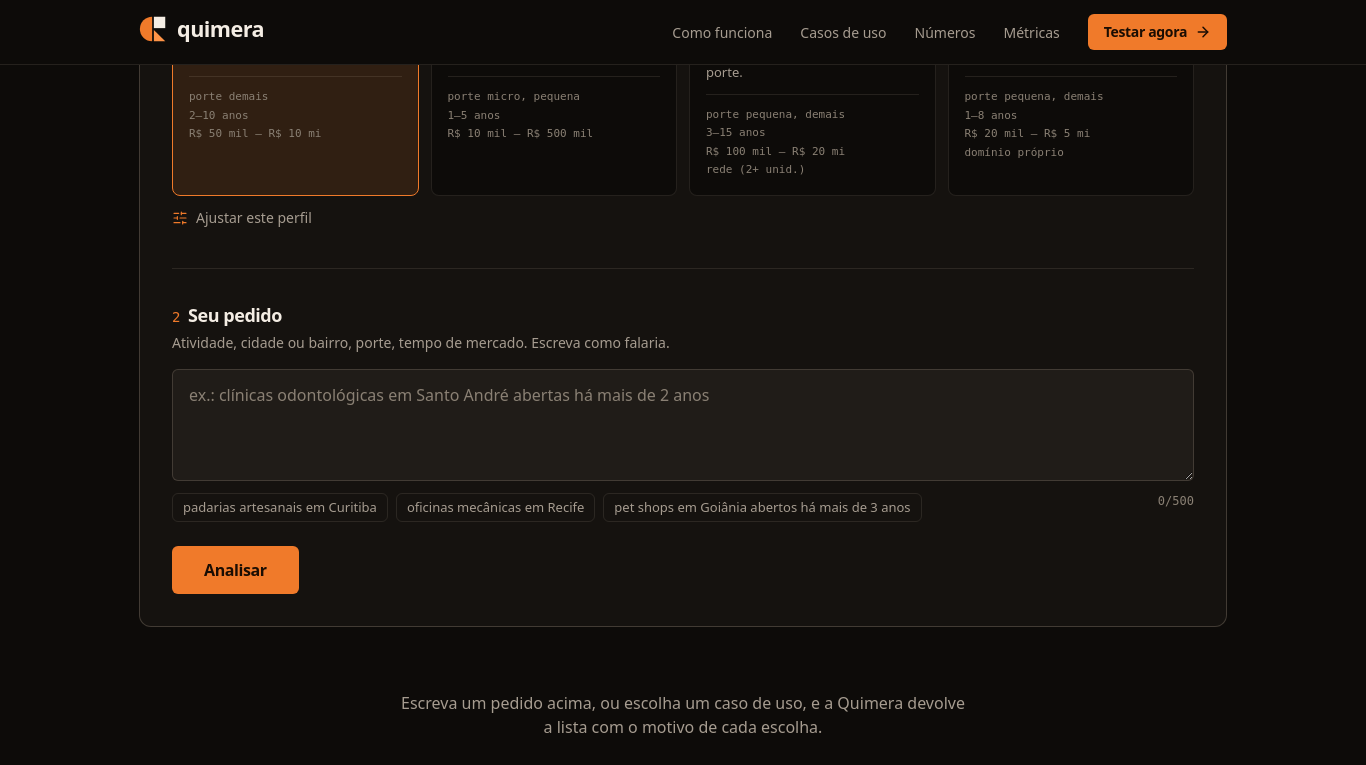
Home — fluxo de busca › sem site key no /config (auth desligada) envia o POST sem token
(page scrolled)
Type "padarias artesanais" into the text box labelled "2Seu pedido" at (683, 425), box 172,369 -> 1194,481
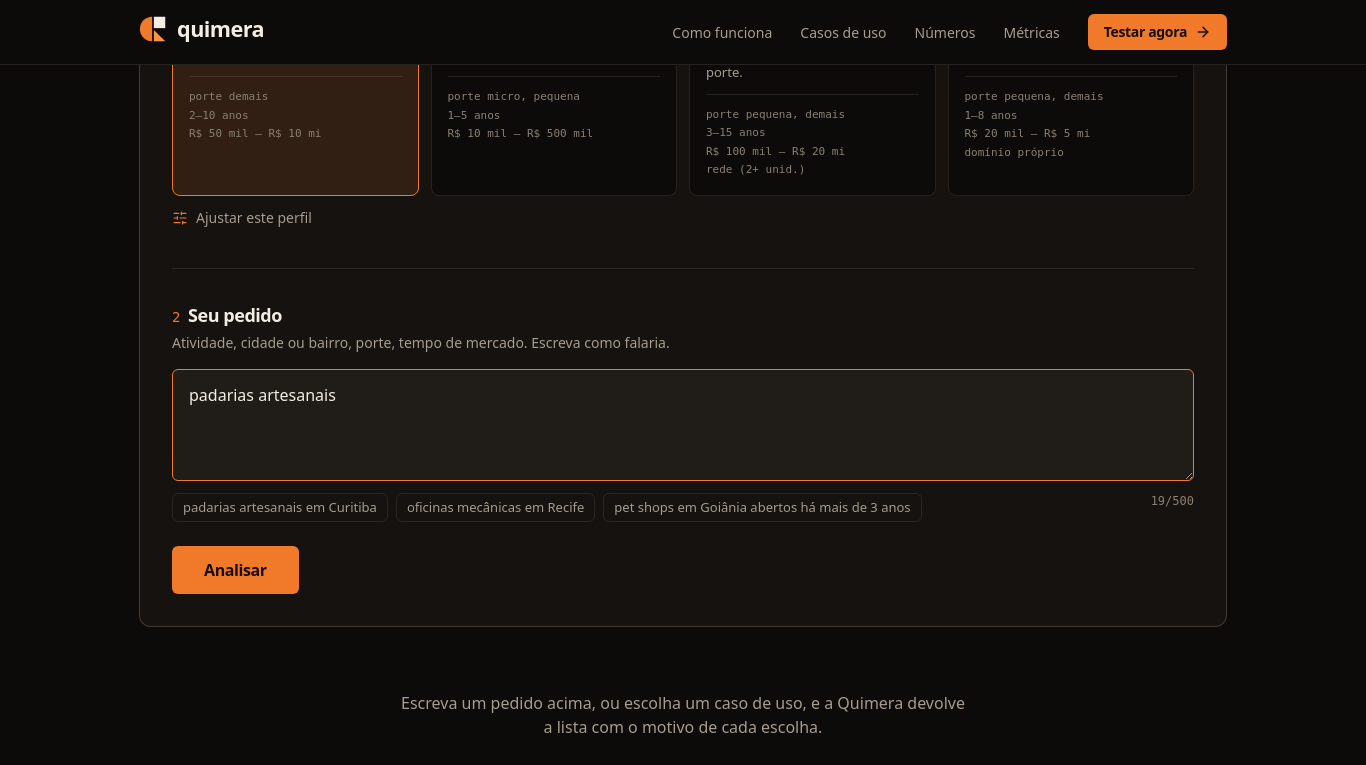
Click the button "Analisar" at (235, 570), box 172,546 -> 299,594
(page scrolled)
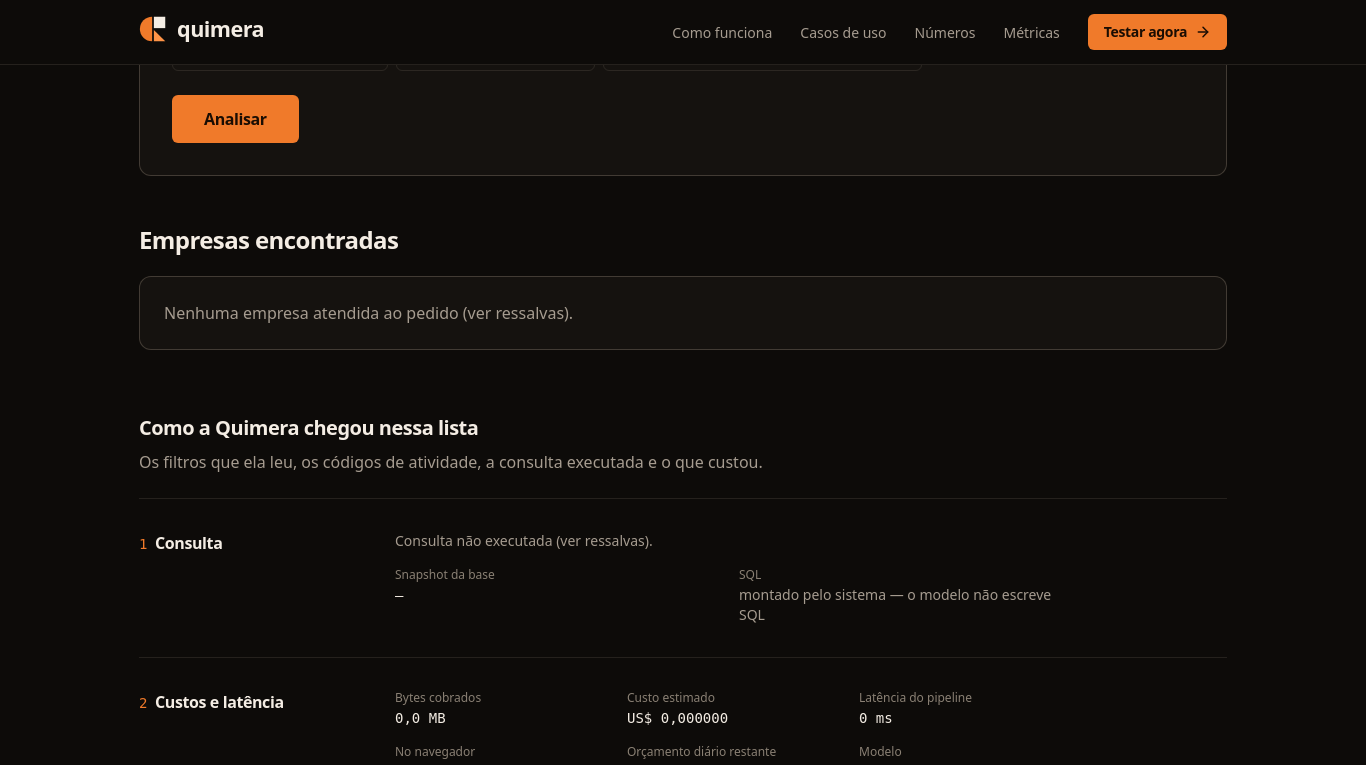
Result: the text "Nenhuma empresa atendida ao pedido (ver ressalvas)." is shown at 164,302 -> 573,324
